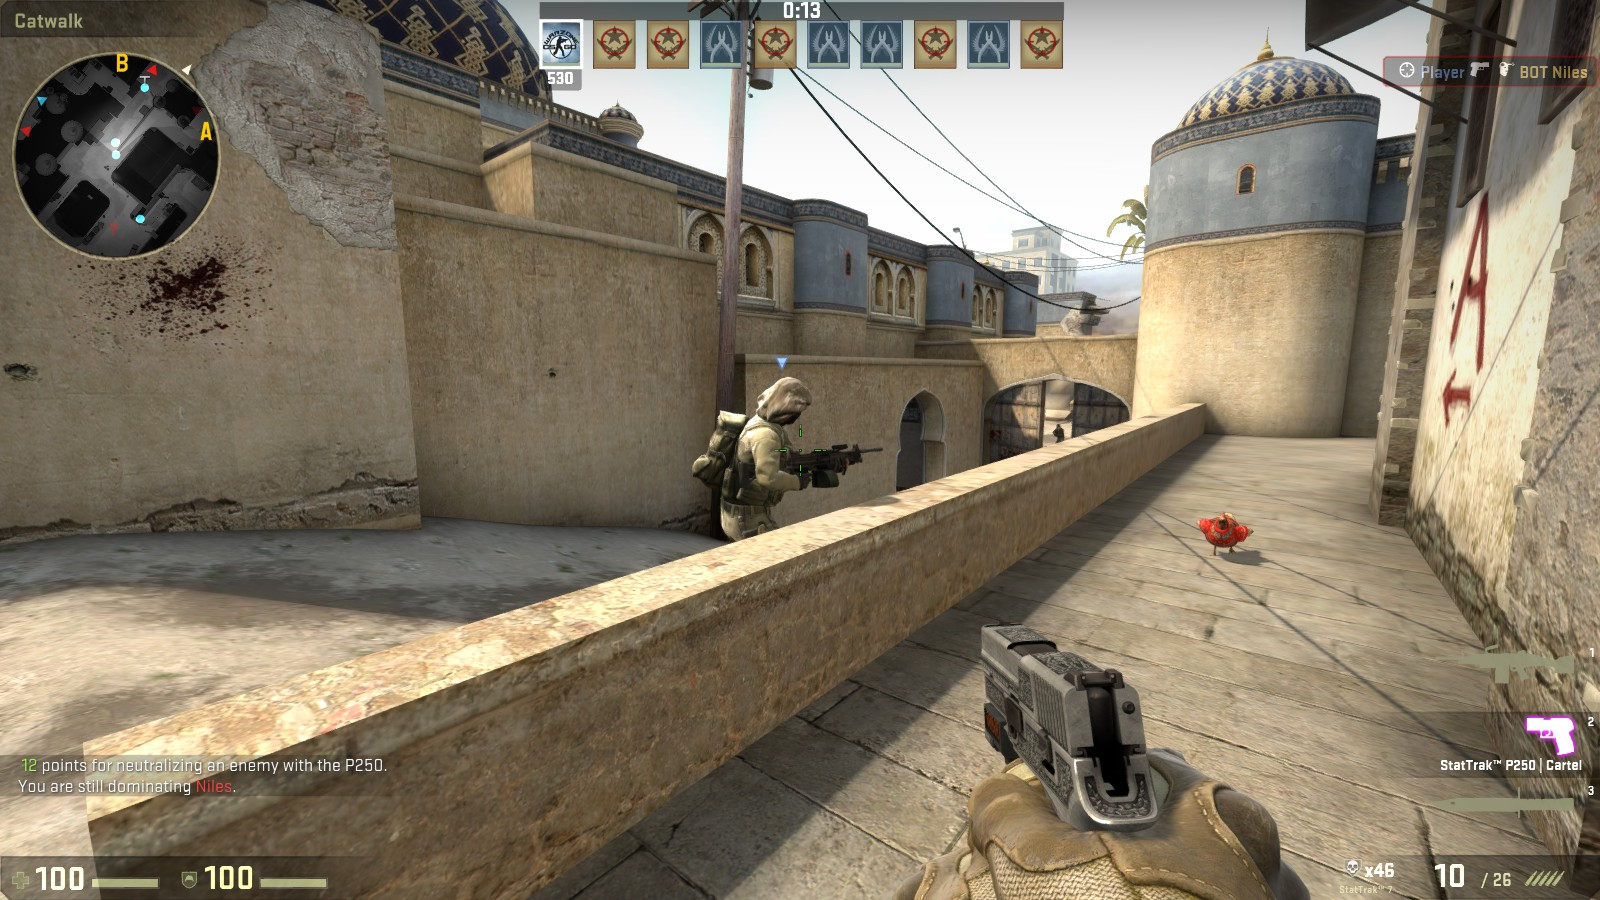c: (709, 369, 815, 541)
ch: (751, 371, 818, 427)
